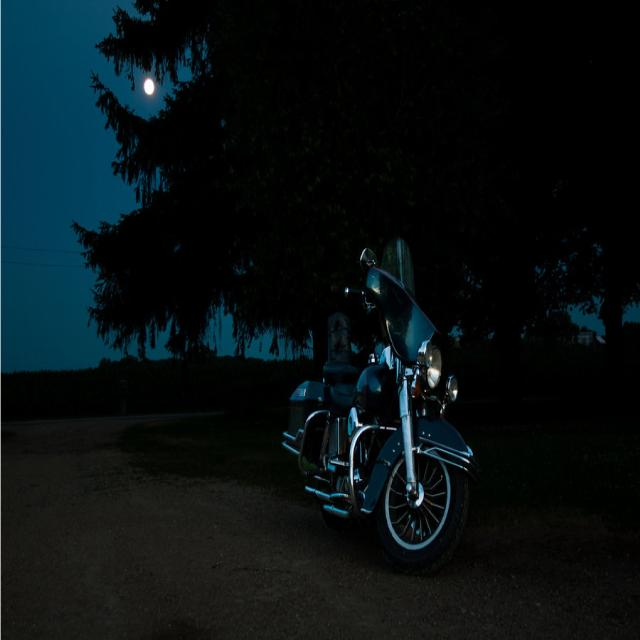Motorbike: (254, 262, 499, 576)
